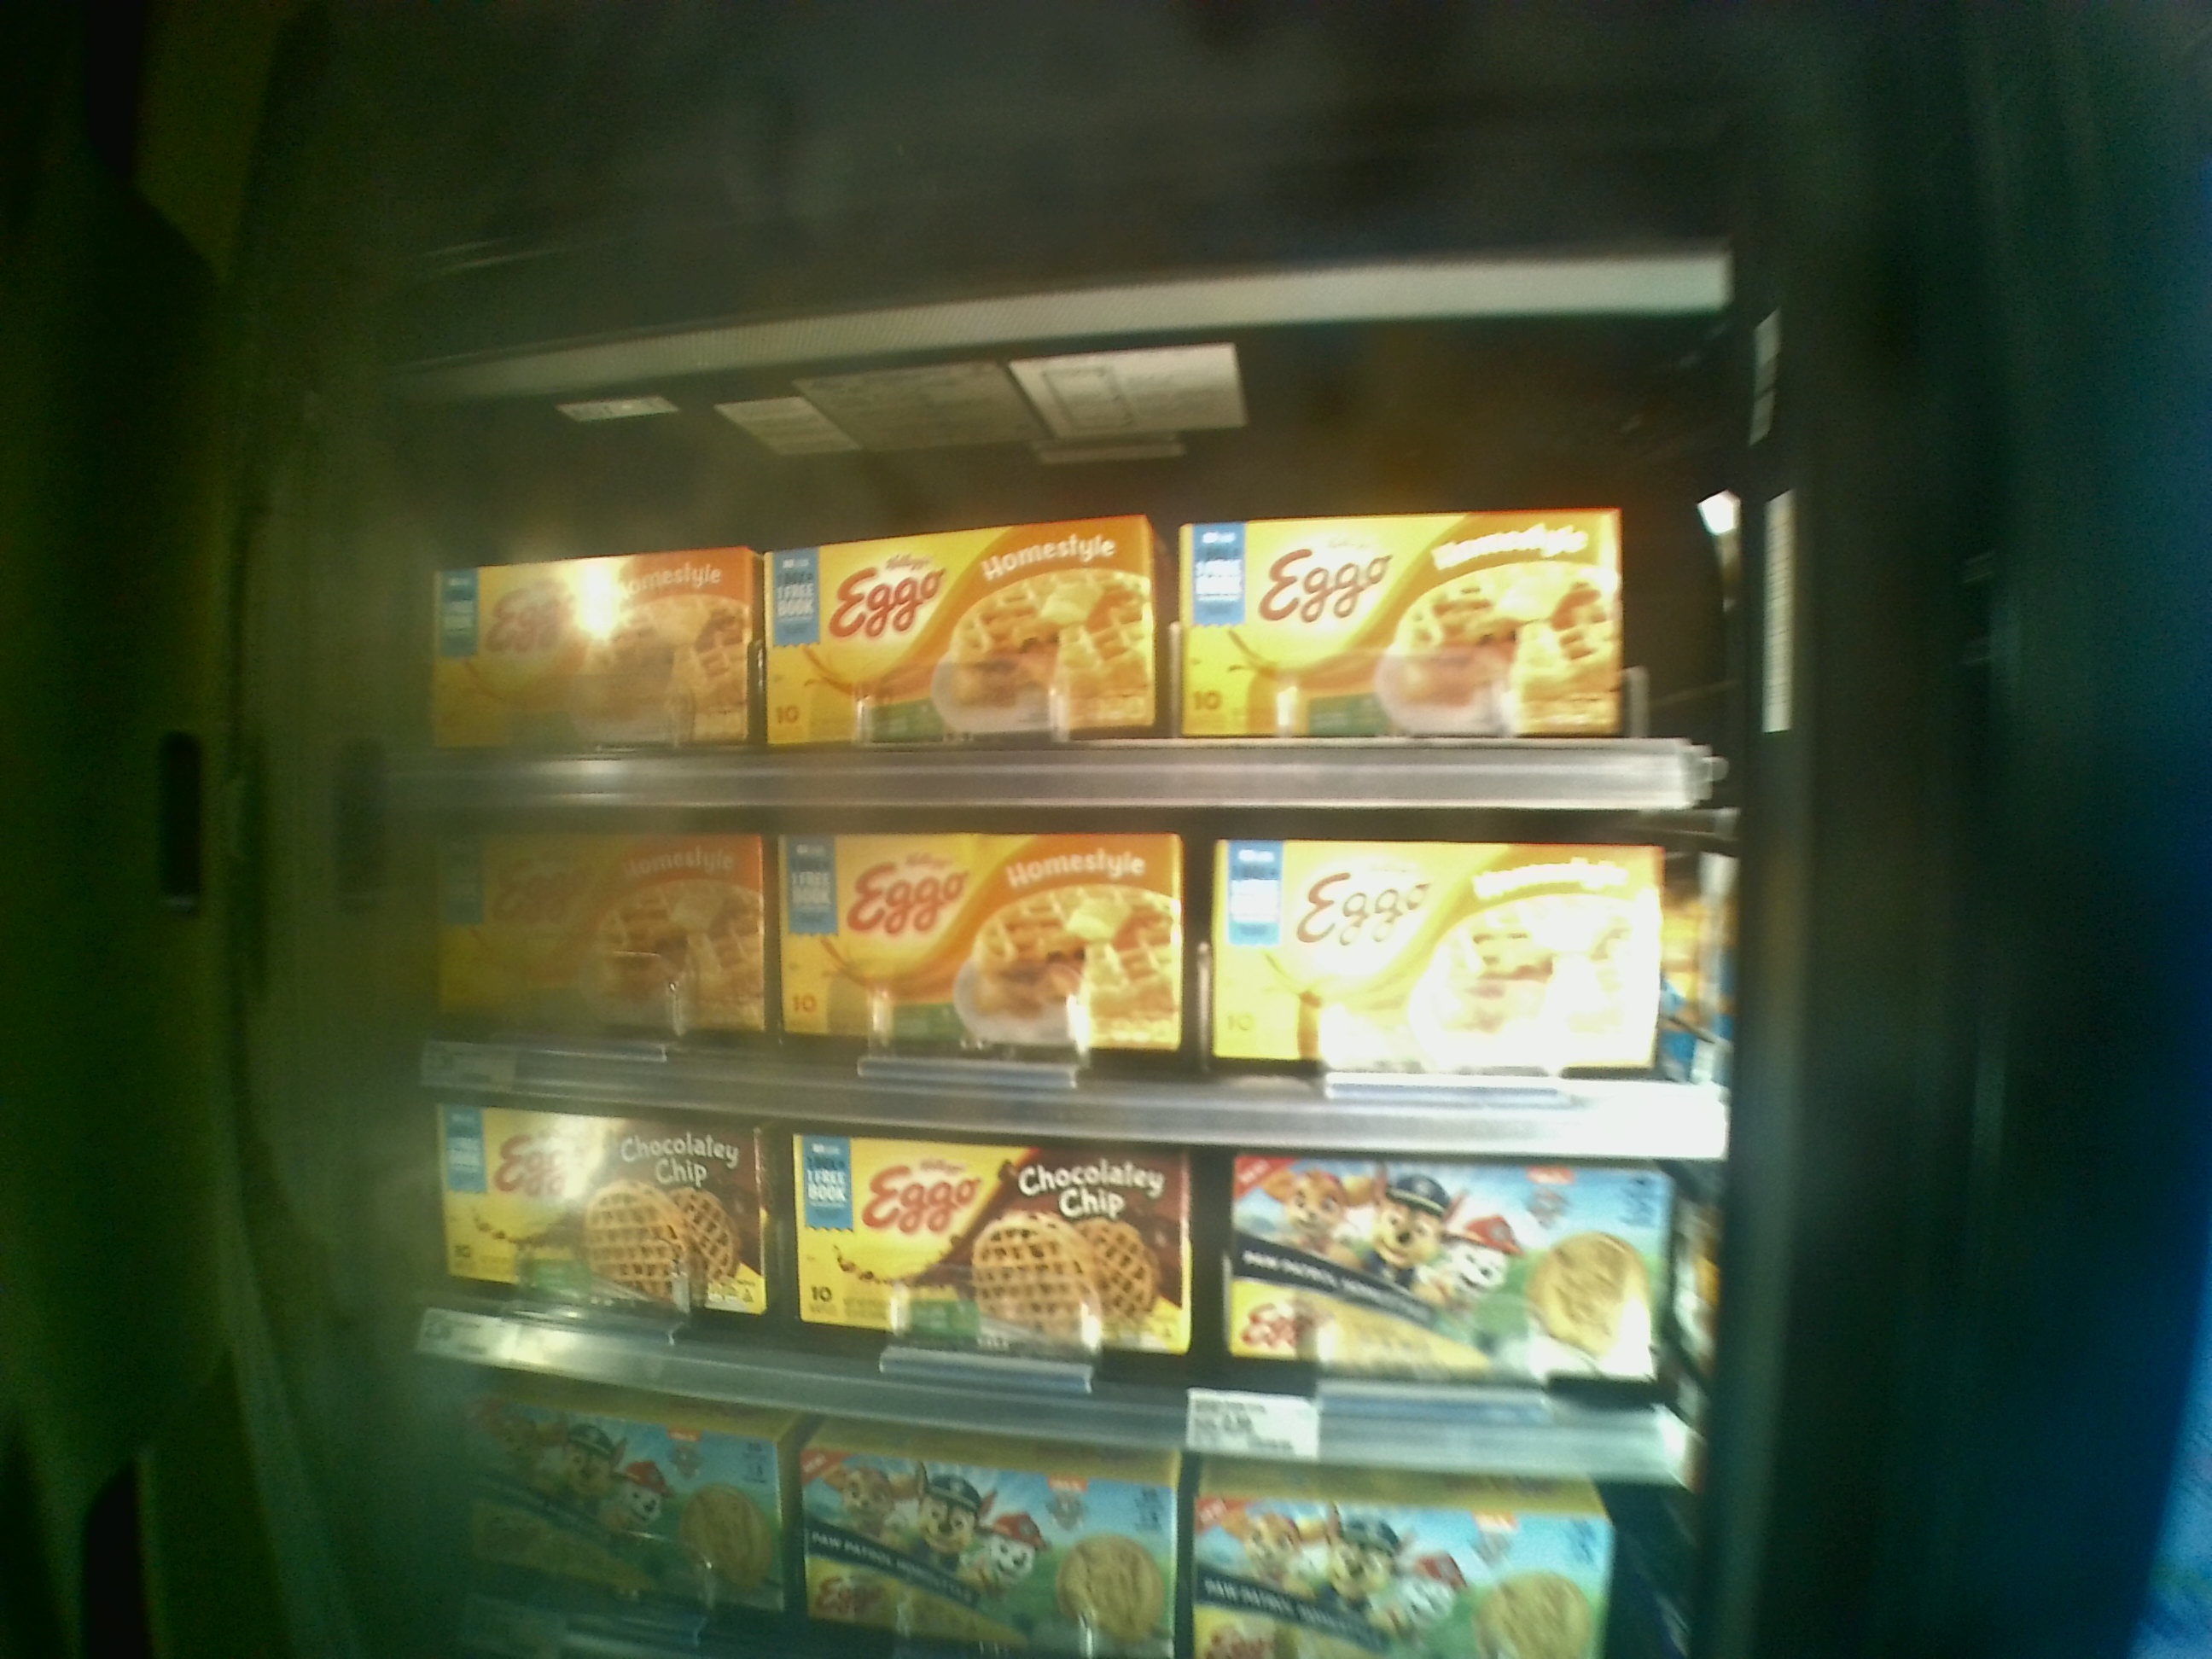shelf: (401, 410, 1719, 802), (395, 798, 1740, 1171), (404, 1093, 1686, 1474)
